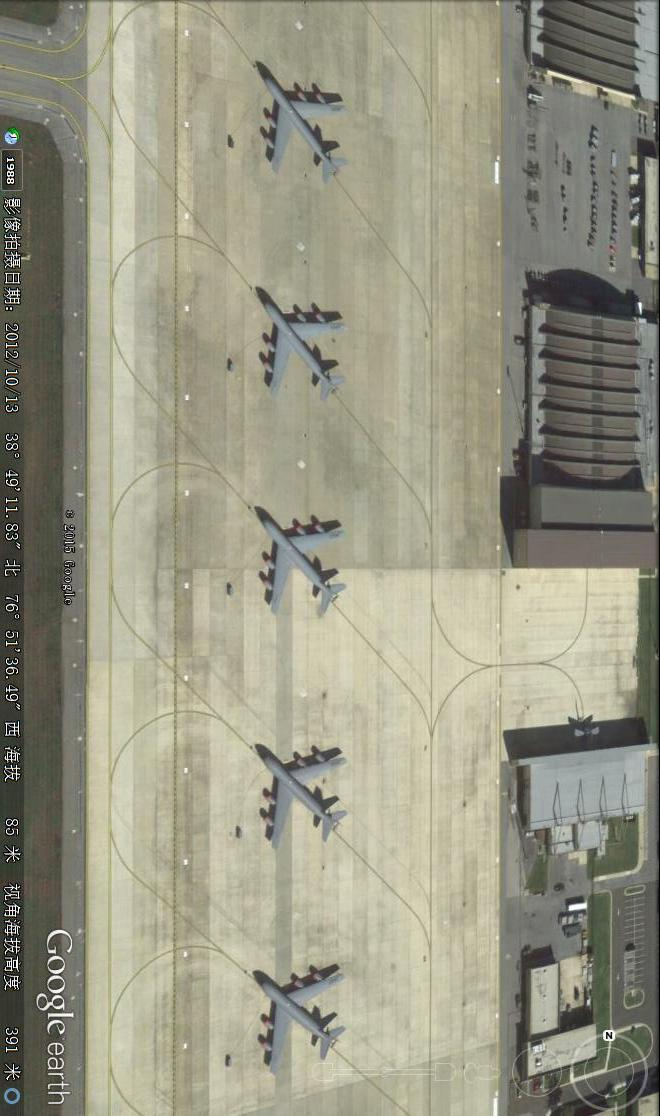KC-135: (251, 289, 350, 404), (249, 963, 353, 1072), (250, 512, 351, 617), (256, 72, 352, 181), (260, 747, 349, 853)
